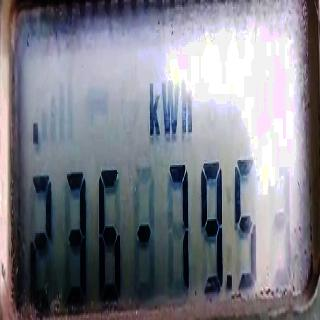-: (137, 223, 151, 246), (32, 113, 39, 153)
2: (28, 166, 52, 312)
3: (62, 160, 88, 314)
5: (232, 148, 260, 295)
6: (98, 156, 122, 307)
7: (167, 151, 192, 294)
9: (198, 155, 225, 298)
